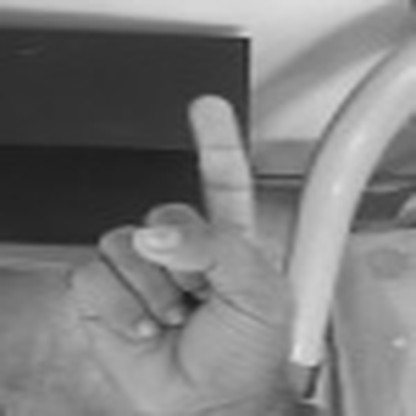d: (65, 90, 300, 411)
